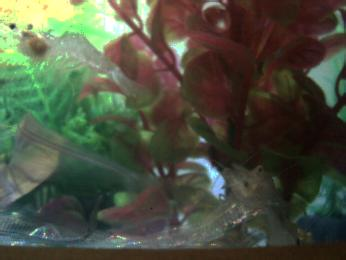glassfish: (13, 110, 144, 191), (1, 210, 97, 250)
siberian prawn: (17, 26, 143, 97), (223, 158, 301, 248)
